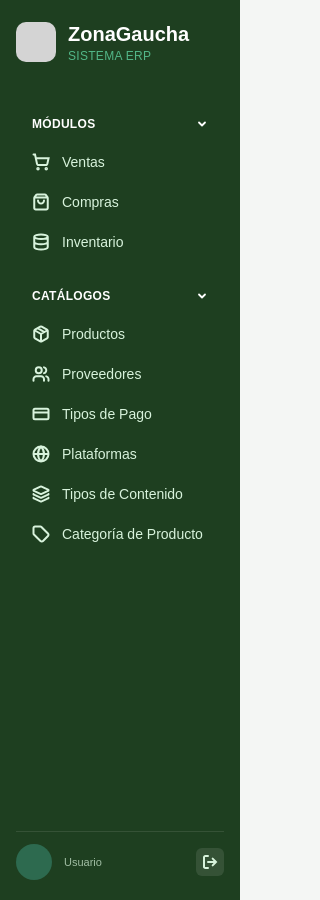
alterna modulos y catalogos de forma independiente
Click the button "MÓDULOS" at {"x": 120, "y": 124}, box [16,108,224,140]
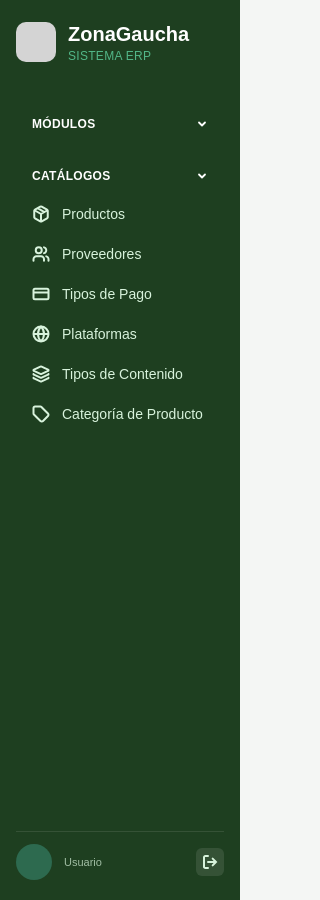
Expected: the link to "/catalogos/productos" is shown, [32,205,125,223]
Expected: the link "Inventario" is gone
Click the button "CATÁLOGOS" at {"x": 120, "y": 176}, box [16,160,224,192]
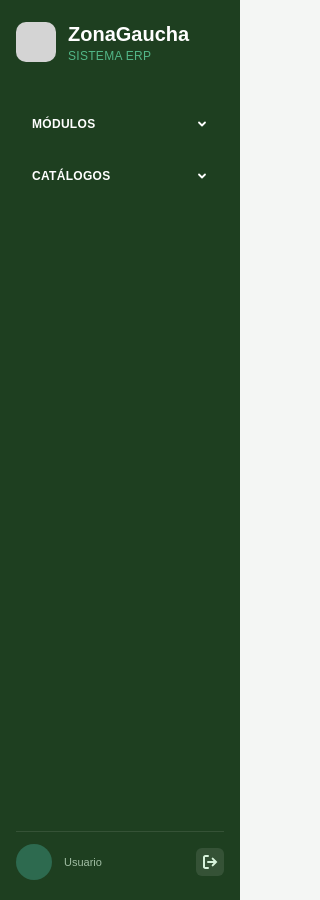
Expected: the link to "/catalogos/productos" is gone
Click the button "MÓDULOS" at {"x": 120, "y": 124}, box [16,108,224,140]
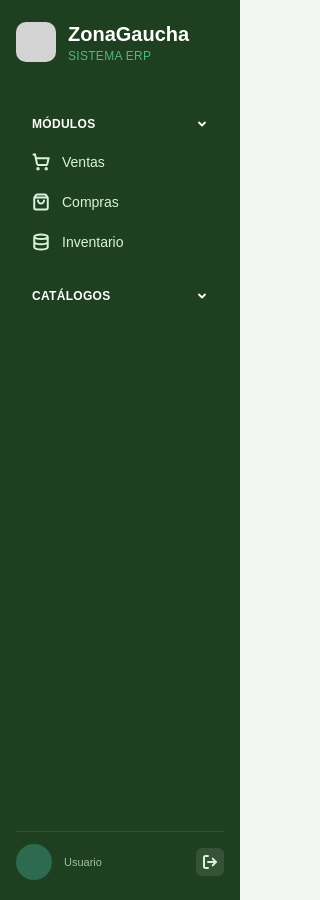
Expected: the link to "/inventario" is shown, [32,233,124,251]
